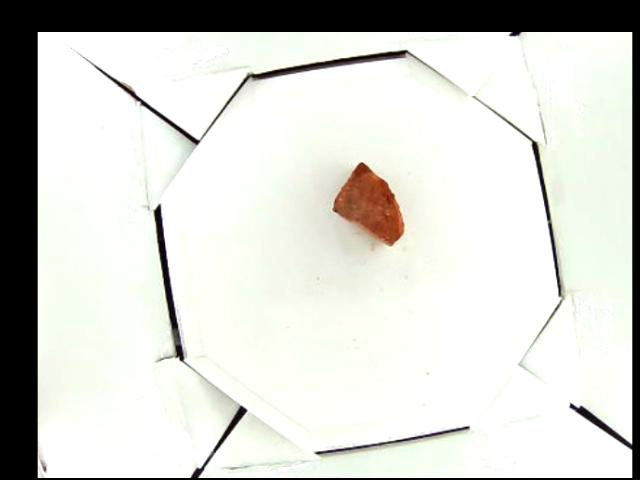Brisk: (333, 162, 407, 244)
